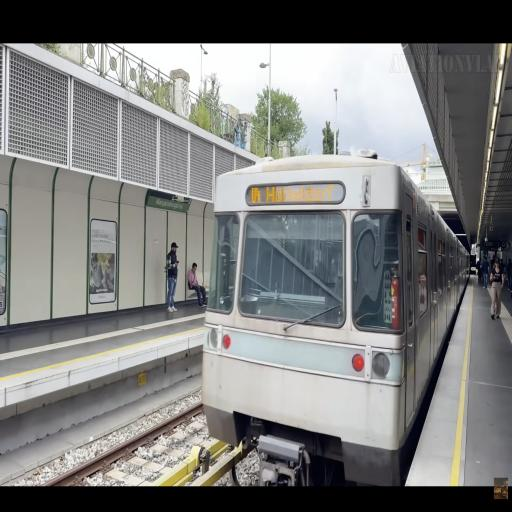Silberpfeil: (203, 147, 469, 468)
